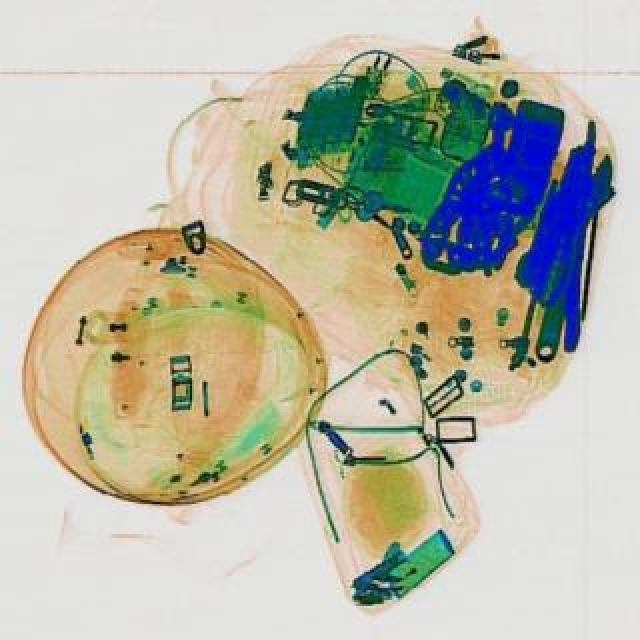scissors: (518, 140, 618, 364)
